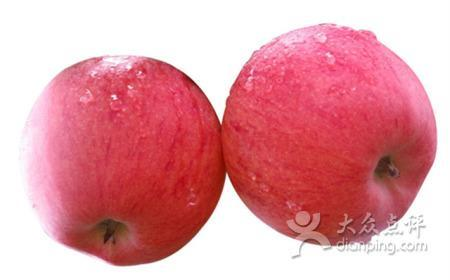apple: (224, 24, 435, 245), (17, 50, 224, 266)
